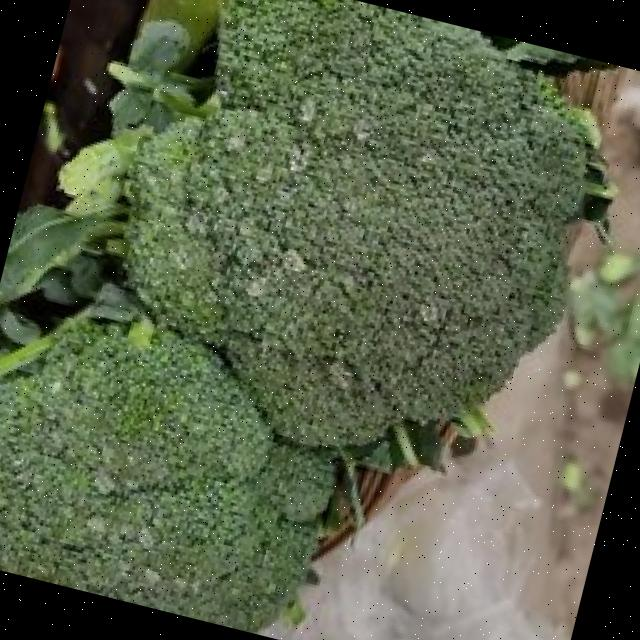Broccoli: (0, 0, 588, 632), (130, 0, 588, 447), (0, 323, 333, 632)
